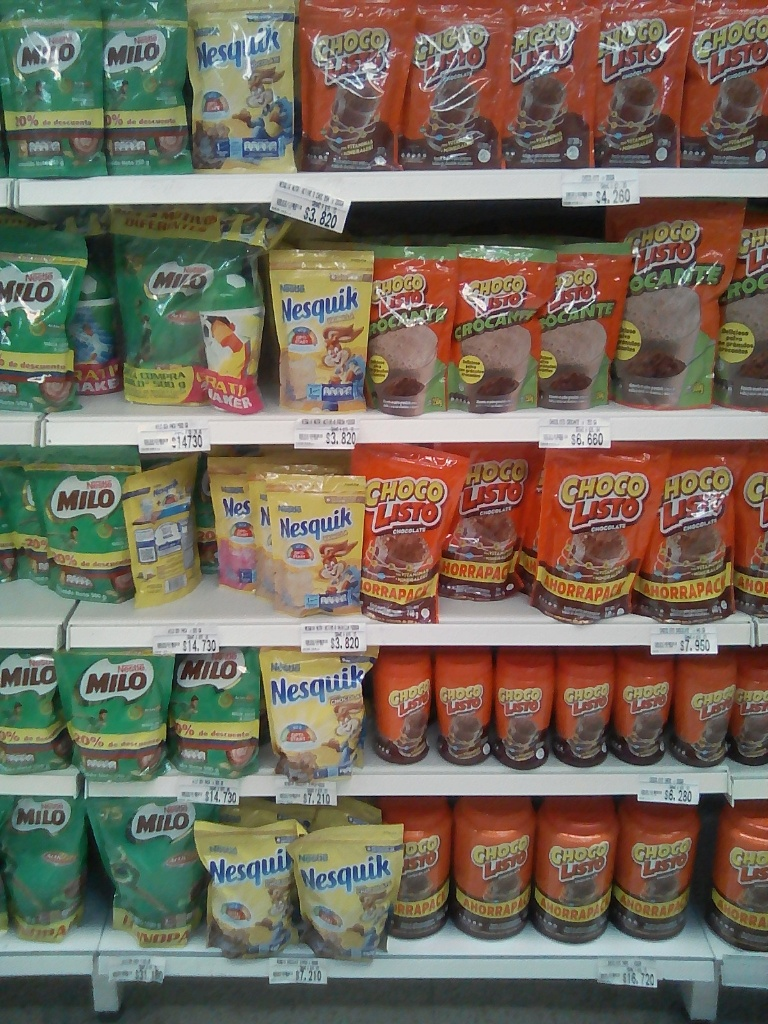COL0170102DYP25000: (361, 246, 454, 416)
COL0170102DYP50000: (606, 201, 744, 415)
COL0170103DYP20000: (298, 4, 399, 167)
COL0170103DYP40000: (357, 458, 452, 625)
COL0170103TRR00100: (384, 795, 466, 952)
COL0170103TRR30000: (371, 647, 434, 768)
COL0170203DYP25000: (5, 4, 104, 172)
COL0170203DYP50000: (170, 651, 279, 781)
COL0170305DYP20000: (199, 445, 269, 604)
COL0170306DYP20000: (267, 473, 367, 619)
